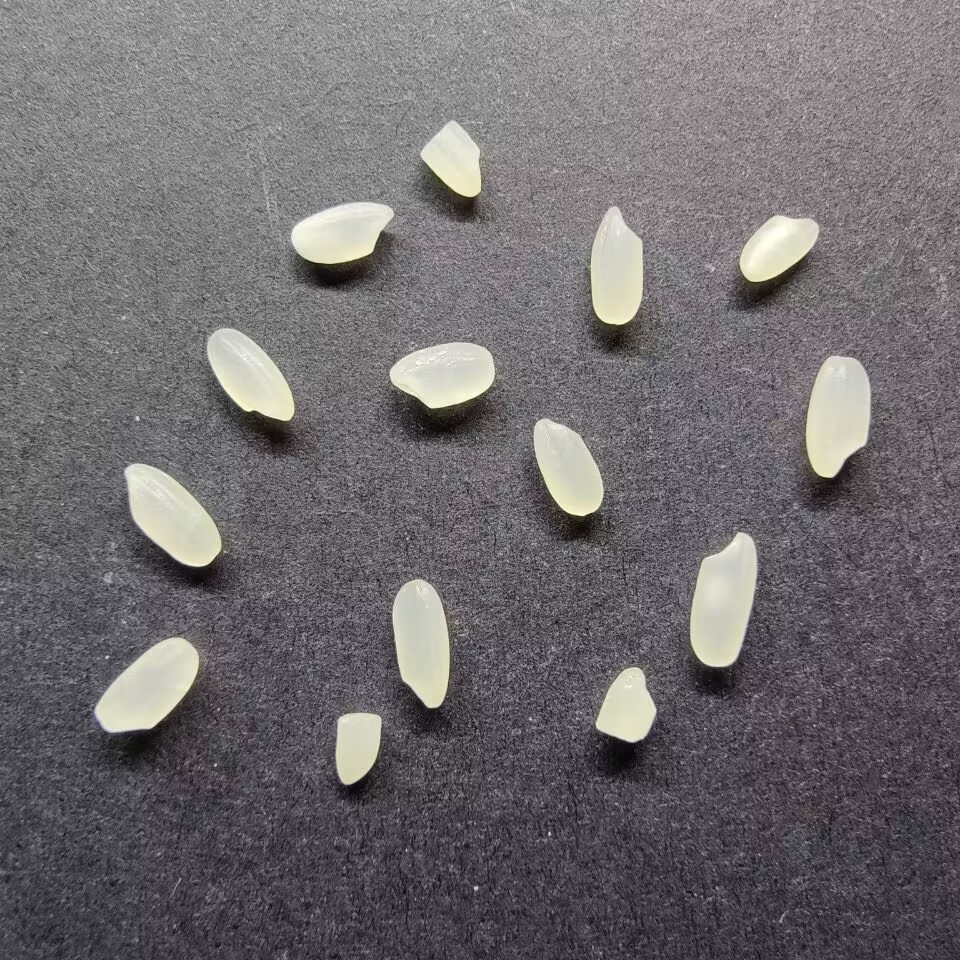broken: (592, 665, 658, 744), (418, 118, 483, 198), (332, 710, 384, 786)
rice: (122, 462, 226, 569), (92, 636, 201, 734), (687, 531, 759, 667), (204, 327, 297, 423), (803, 354, 872, 480), (389, 577, 452, 710), (529, 414, 606, 518), (388, 341, 495, 410), (588, 204, 645, 325), (289, 200, 395, 264), (737, 213, 821, 283)
